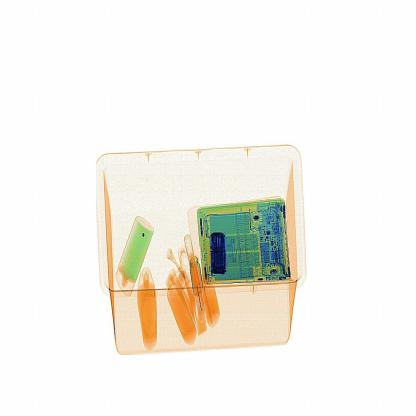scissors: (209, 220, 238, 277)
